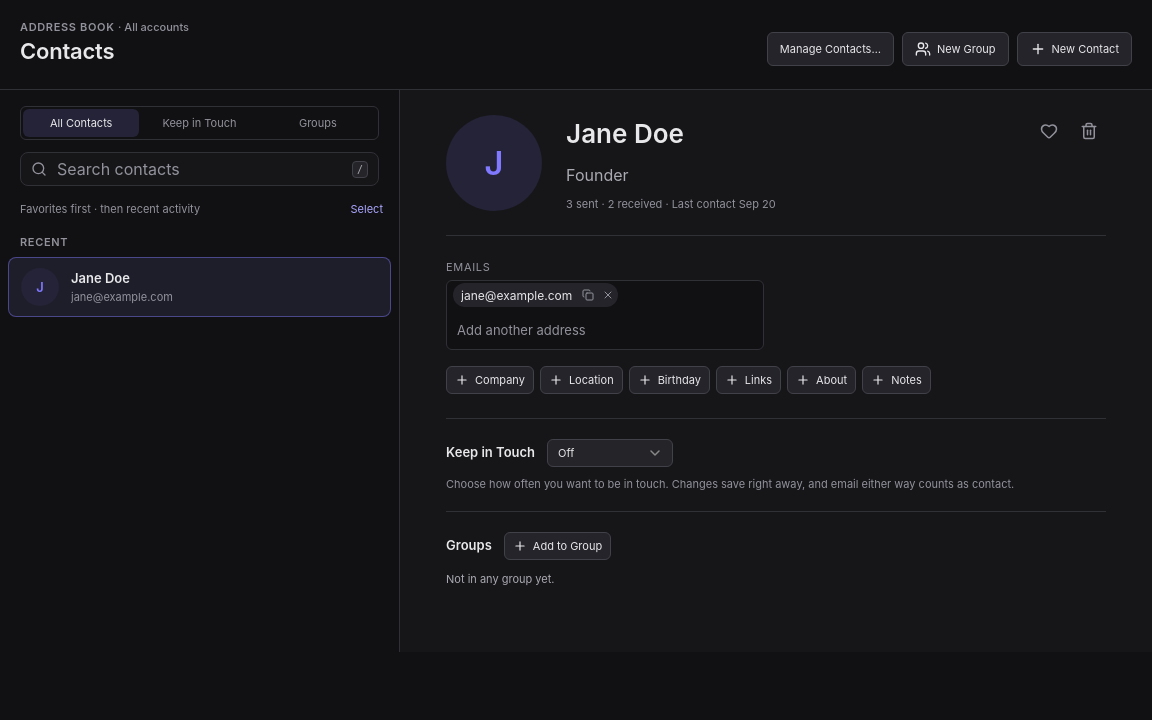
Test: ContactsWorkspace › saves from editing fields with Mod+Enter and creates contacts and groups with scoped shortcuts
The width and height of the screenshot is (1152, 720).
Replace the text in the field showing "Jane Doe" with "Edited Jane" at (771, 134), box [566,114,976,153]
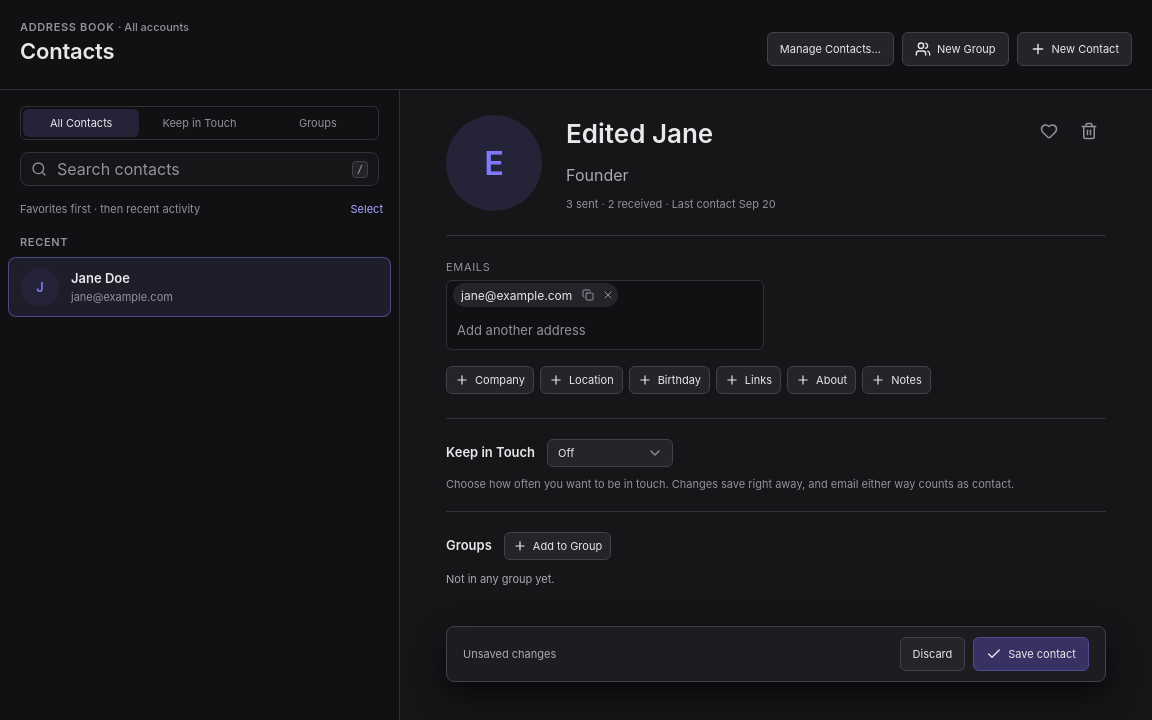
Press N in the field showing "Jane Doe", box [566,114,976,153]
Press Enter in the field showing "Jane Doe", box [566,114,976,153]
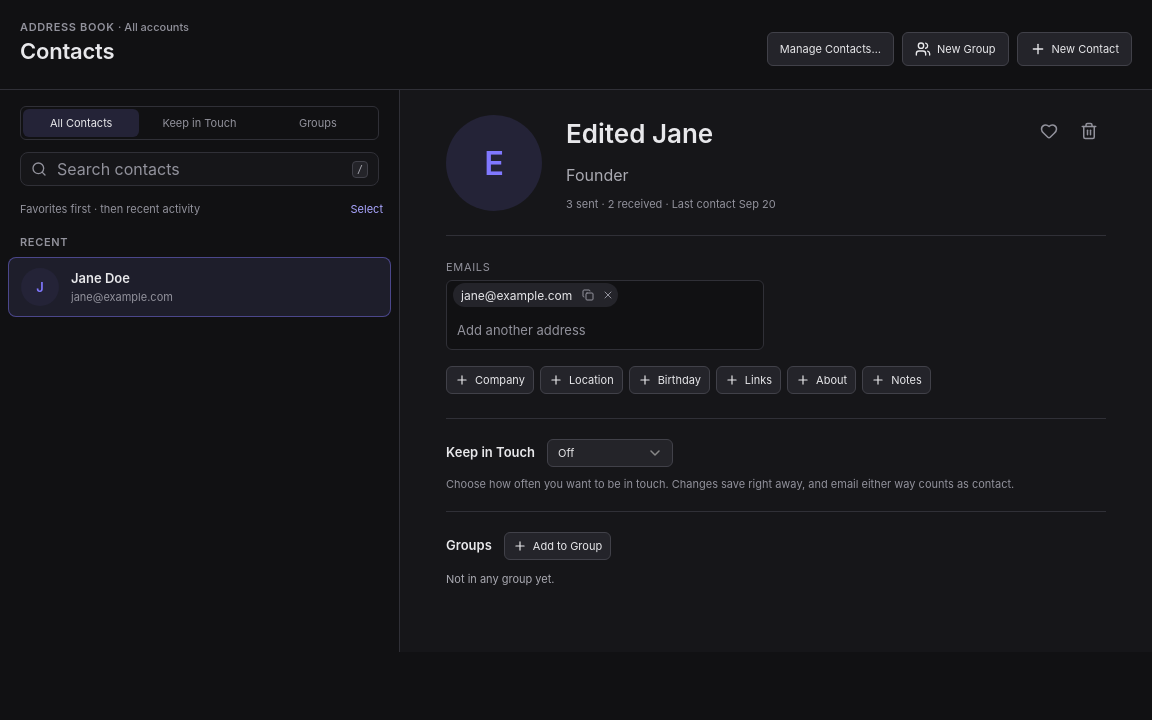
Press N
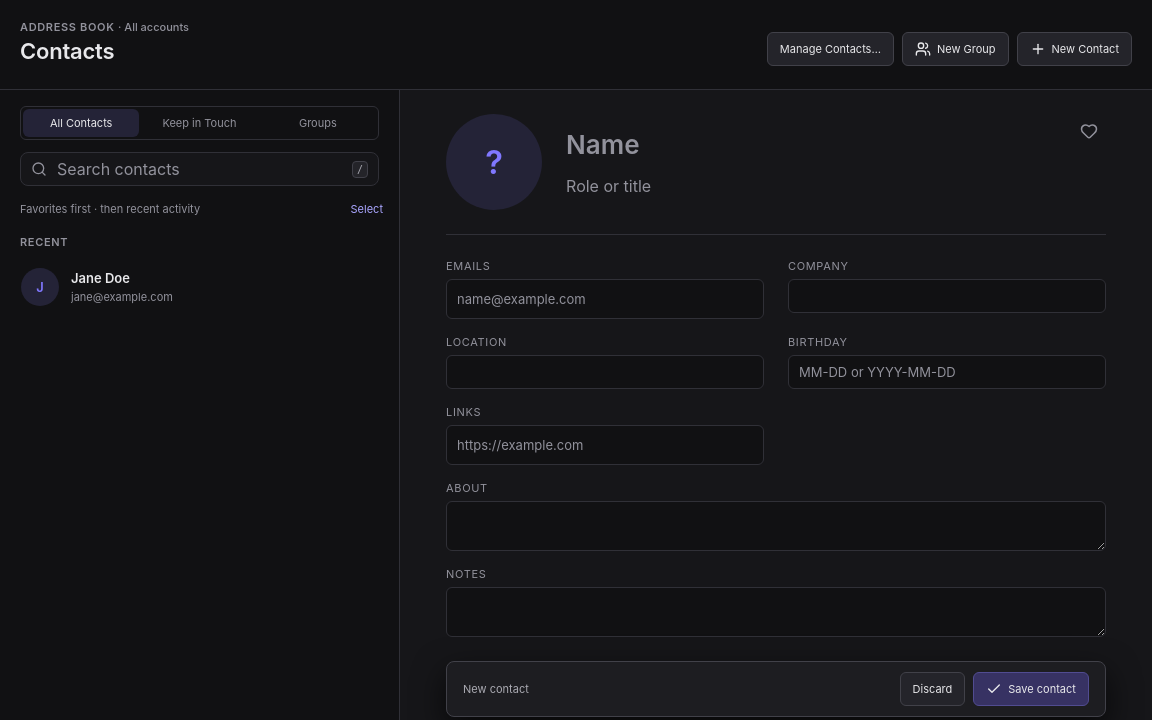
Result: the field labelled "Name" is empty at [566,124,976,164]
Result: the text "New contact" is shown at [463,682,529,696]
Press G
Expected: the field labelled "Name" is shown, [566,124,976,164]
Click the button "Discard".
click(932, 689)  # box [900,672,965,706]
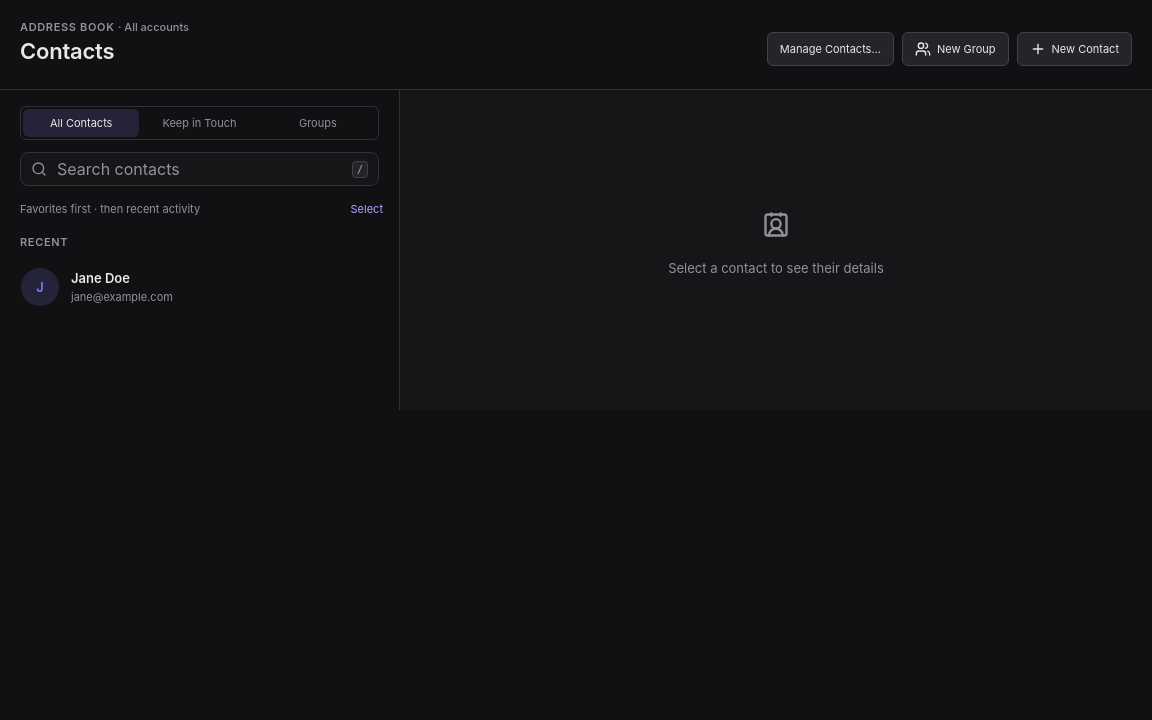
Press G
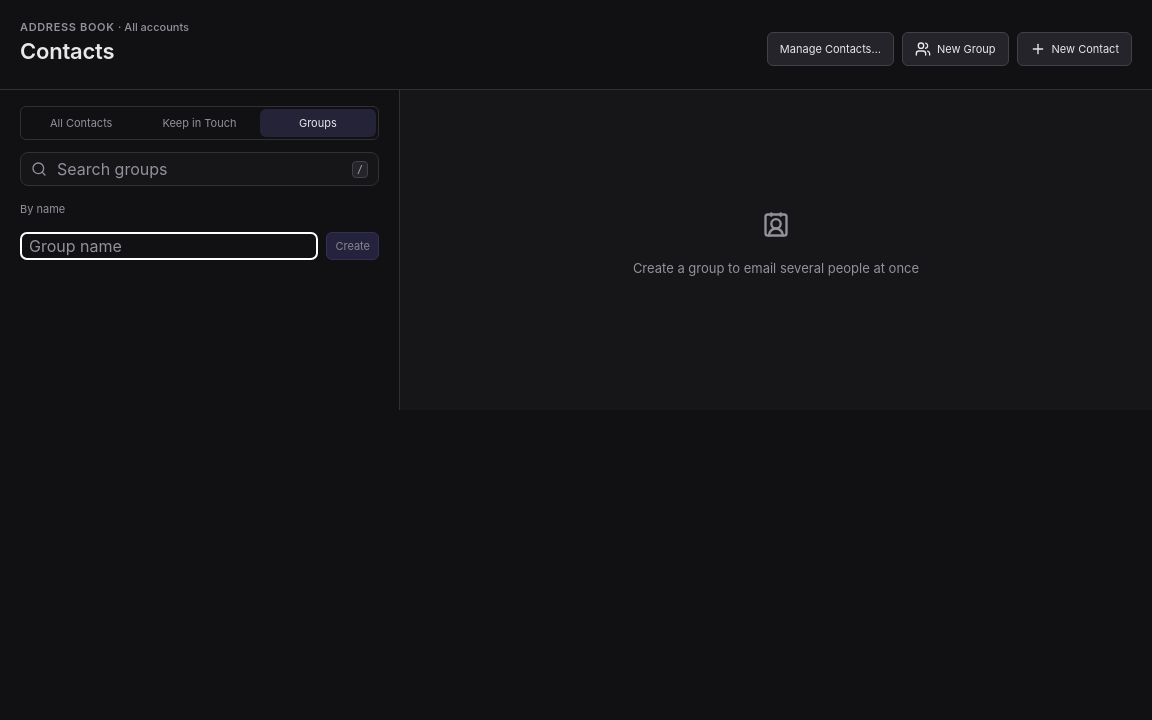
Result: the field named "New Group Name" is shown at [20,232,318,260]
